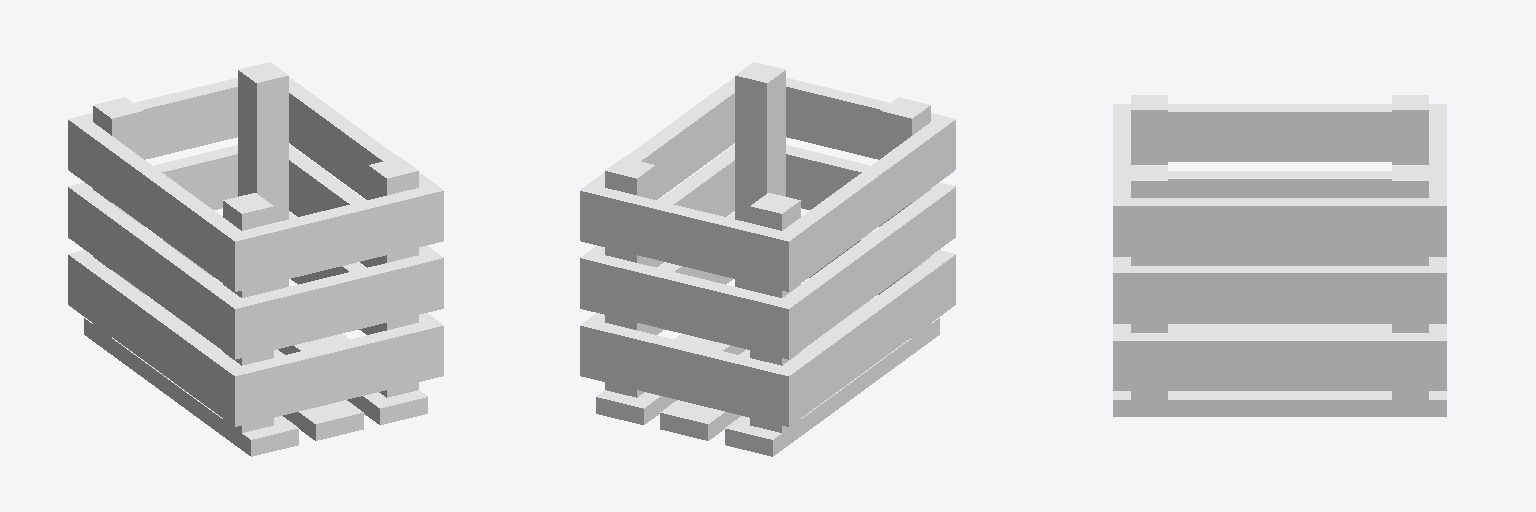
Rendered from crate_2.obj.
3 views of the same model, side by side, from view 1: azimuth 30°, elevation 25°; view 2: azimuth 150°, elevation 25°; view 3: azimuth 270°, elevation 25° (orthographic).
Parts seen in each view (by area): view 1: object 1; view 2: object 1; view 3: object 1.
Boxes of the visible parts, box(x1,y1,x2,y2) form: object 1: box(68, 62, 443, 456); object 1: box(580, 62, 955, 456); object 1: box(1113, 95, 1446, 416).
Bounding box in the file's own units: 1.3 × 1.4 × 1.8.